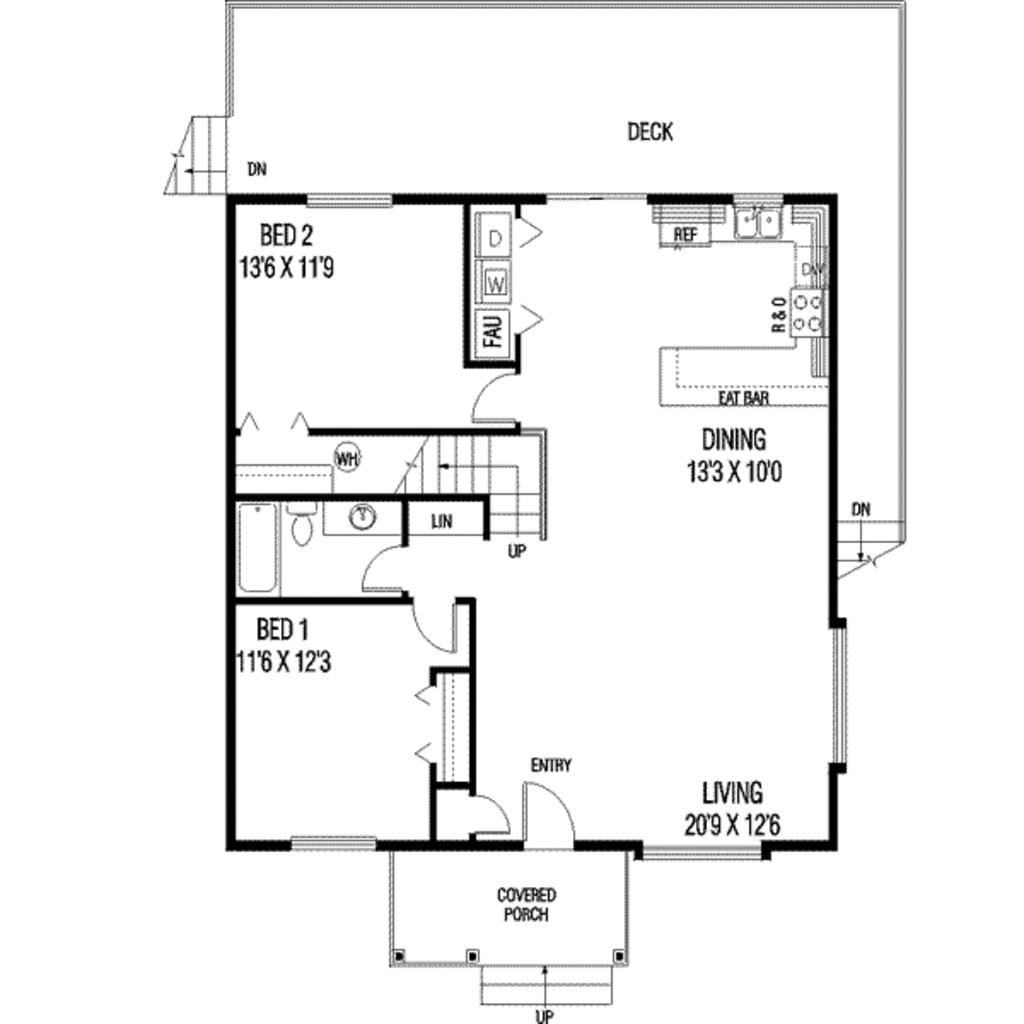door: (518, 777, 575, 850), (467, 374, 533, 432), (411, 594, 475, 653), (358, 544, 417, 594), (470, 797, 509, 844)
large_sink: (280, 491, 325, 558)
small_sink: (333, 499, 381, 533)
stairs: (395, 432, 553, 546), (472, 955, 614, 1003), (156, 105, 228, 199), (836, 507, 908, 580)
tub: (236, 502, 278, 594)
twin_sink: (730, 205, 794, 244)
window: (297, 186, 402, 213), (834, 625, 853, 760), (647, 841, 758, 864), (541, 186, 634, 202), (294, 833, 380, 846)
